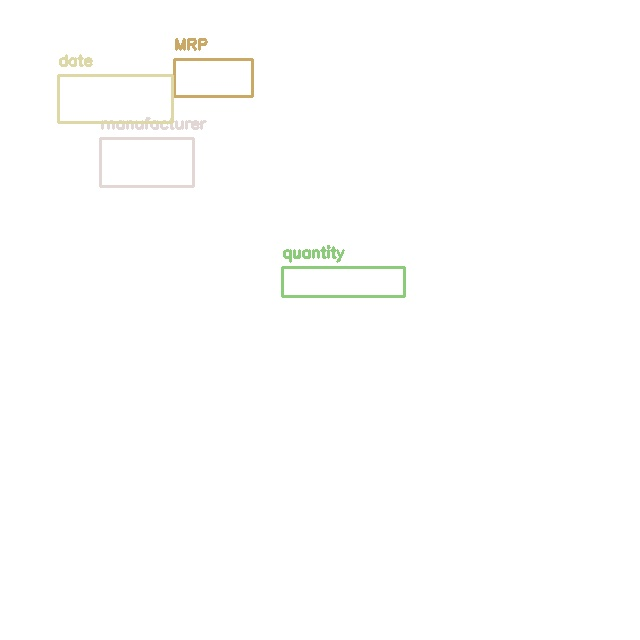MRP: (174, 59, 252, 96)
date: (58, 75, 172, 122)
manufacturer: (100, 138, 193, 186)
quantity: (282, 267, 404, 296)
